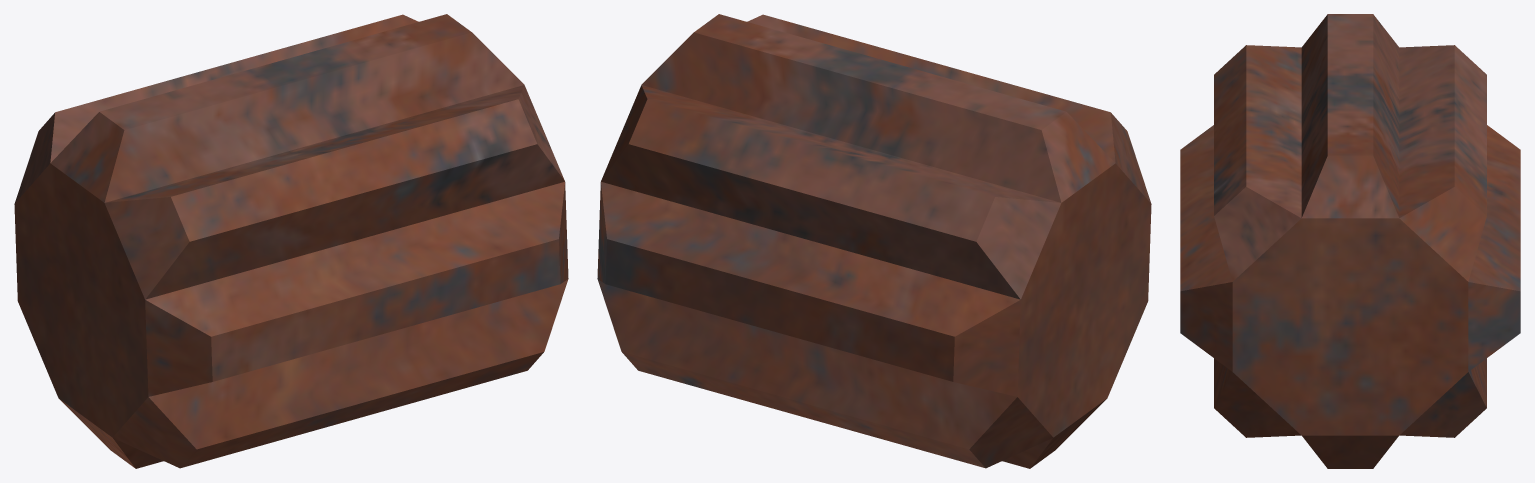
File: walker_leg.gltf
3 views of the same model, side by side, from view 1: azimuth 30°, elevation 25°; view 2: azimuth 150°, elevation 25°; view 3: azimuth 270°, elevation 25° (orthographic). The views are drawn at different scales.
Visible parts, largest first — view 1: foot_inner_gear_B_DRIVEN_LOD0; view 2: foot_inner_gear_B_DRIVEN_LOD0; view 3: foot_inner_gear_B_DRIVEN_LOD0.
Boxes of the visible parts, x1,y1,x2,y2 form: foot_inner_gear_B_DRIVEN_LOD0: (14, 14, 568, 468); foot_inner_gear_B_DRIVEN_LOD0: (597, 14, 1151, 468); foot_inner_gear_B_DRIVEN_LOD0: (1180, 14, 1520, 468).
Size of what is drawn, in the model's own units: 0.3931 by 0.3111 by 0.3.
1 material, 1 textured.
